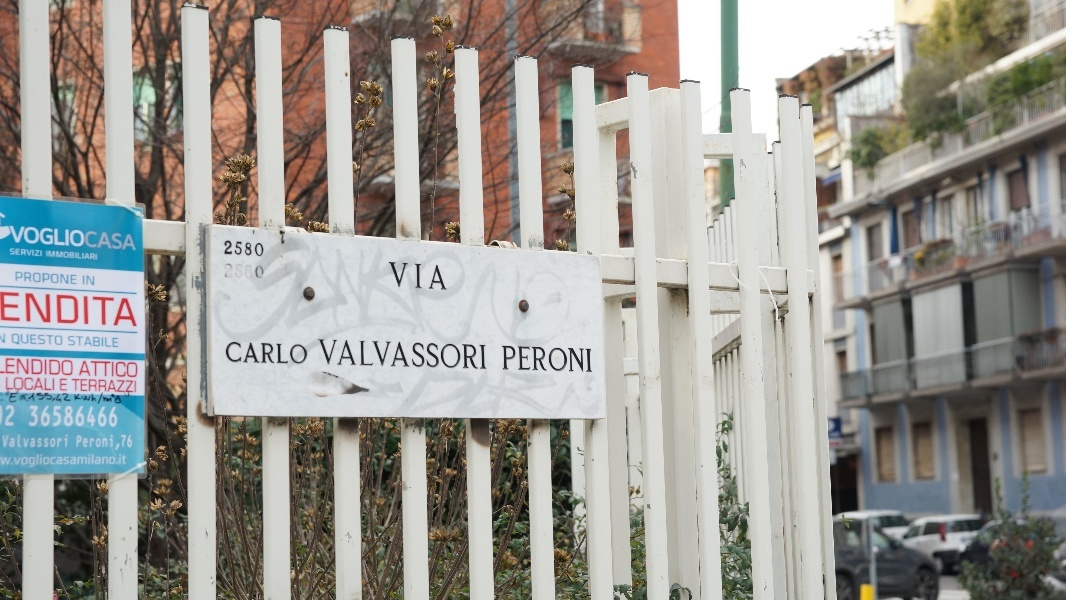text: (1, 292, 16, 328), (17, 292, 32, 328), (33, 292, 48, 328), (49, 292, 64, 328), (65, 292, 80, 328), (81, 292, 96, 328), (97, 292, 112, 328), (113, 292, 128, 328), (321, 338, 336, 373), (337, 338, 352, 373), (353, 338, 368, 373), (369, 338, 384, 373), (385, 338, 400, 373), (401, 338, 416, 373), (417, 338, 432, 373), (433, 338, 448, 373), (449, 338, 464, 373), (465, 338, 480, 373), (433, 261, 449, 293), (513, 342, 528, 375), (529, 342, 544, 375), (545, 342, 560, 375), (561, 342, 576, 375), (577, 342, 592, 375), (401, 261, 416, 293), (417, 261, 432, 293), (17, 224, 32, 255), (33, 224, 48, 255), (49, 224, 64, 255), (65, 224, 80, 255), (81, 224, 96, 255), (97, 224, 112, 255), (113, 224, 128, 255), (386, 261, 400, 293), (500, 342, 512, 375), (225, 341, 240, 366), (241, 341, 256, 366), (257, 341, 272, 366), (273, 341, 288, 366), (289, 341, 304, 366), (129, 292, 139, 328), (33, 406, 48, 429), (49, 406, 64, 429), (65, 406, 80, 429), (81, 406, 96, 429), (97, 406, 112, 429), (17, 357, 32, 378), (33, 357, 48, 378), (49, 357, 64, 378), (6, 224, 16, 255), (129, 224, 139, 255), (225, 240, 240, 259), (241, 240, 256, 259), (225, 263, 240, 282), (241, 263, 256, 282), (97, 360, 112, 379), (113, 360, 128, 379), (81, 433, 96, 452), (97, 433, 112, 452), (113, 433, 128, 452), (481, 338, 489, 373), (5, 404, 16, 428), (83, 360, 96, 379), (1, 433, 16, 449), (17, 433, 32, 449), (33, 433, 48, 449), (49, 433, 64, 449), (5, 357, 16, 378), (17, 332, 32, 347), (33, 332, 48, 347), (17, 377, 32, 392), (33, 377, 48, 392), (81, 379, 96, 394), (97, 379, 112, 394), (113, 379, 128, 394), (1, 454, 16, 469), (17, 454, 32, 469), (33, 454, 48, 469), (49, 454, 64, 469), (65, 454, 80, 469), (81, 454, 96, 469), (97, 454, 112, 469), (113, 454, 128, 469), (314, 338, 320, 373), (17, 272, 32, 286), (33, 272, 48, 286), (49, 272, 64, 286), (49, 332, 63, 347), (81, 335, 96, 349), (97, 335, 112, 349), (257, 263, 267, 282), (65, 357, 74, 378), (65, 272, 78, 286), (67, 335, 80, 349), (49, 249, 64, 261), (65, 249, 80, 261), (81, 249, 96, 261), (257, 240, 266, 259), (129, 360, 138, 379), (82, 275, 96, 287), (17, 247, 32, 258), (6, 377, 16, 392), (113, 406, 119, 429), (71, 379, 80, 394), (129, 379, 138, 394), (305, 341, 310, 366), (33, 247, 44, 258), (49, 377, 56, 392), (593, 342, 596, 375), (113, 335, 120, 349), (75, 433, 80, 452), (129, 433, 134, 452), (9, 247, 16, 258), (11, 332, 16, 347), (59, 378, 64, 393), (29, 406, 32, 429), (65, 433, 69, 449), (65, 378, 68, 393), (222, 240, 224, 259), (222, 263, 224, 282), (45, 249, 48, 261), (14, 272, 16, 286), (97, 249, 99, 261)
